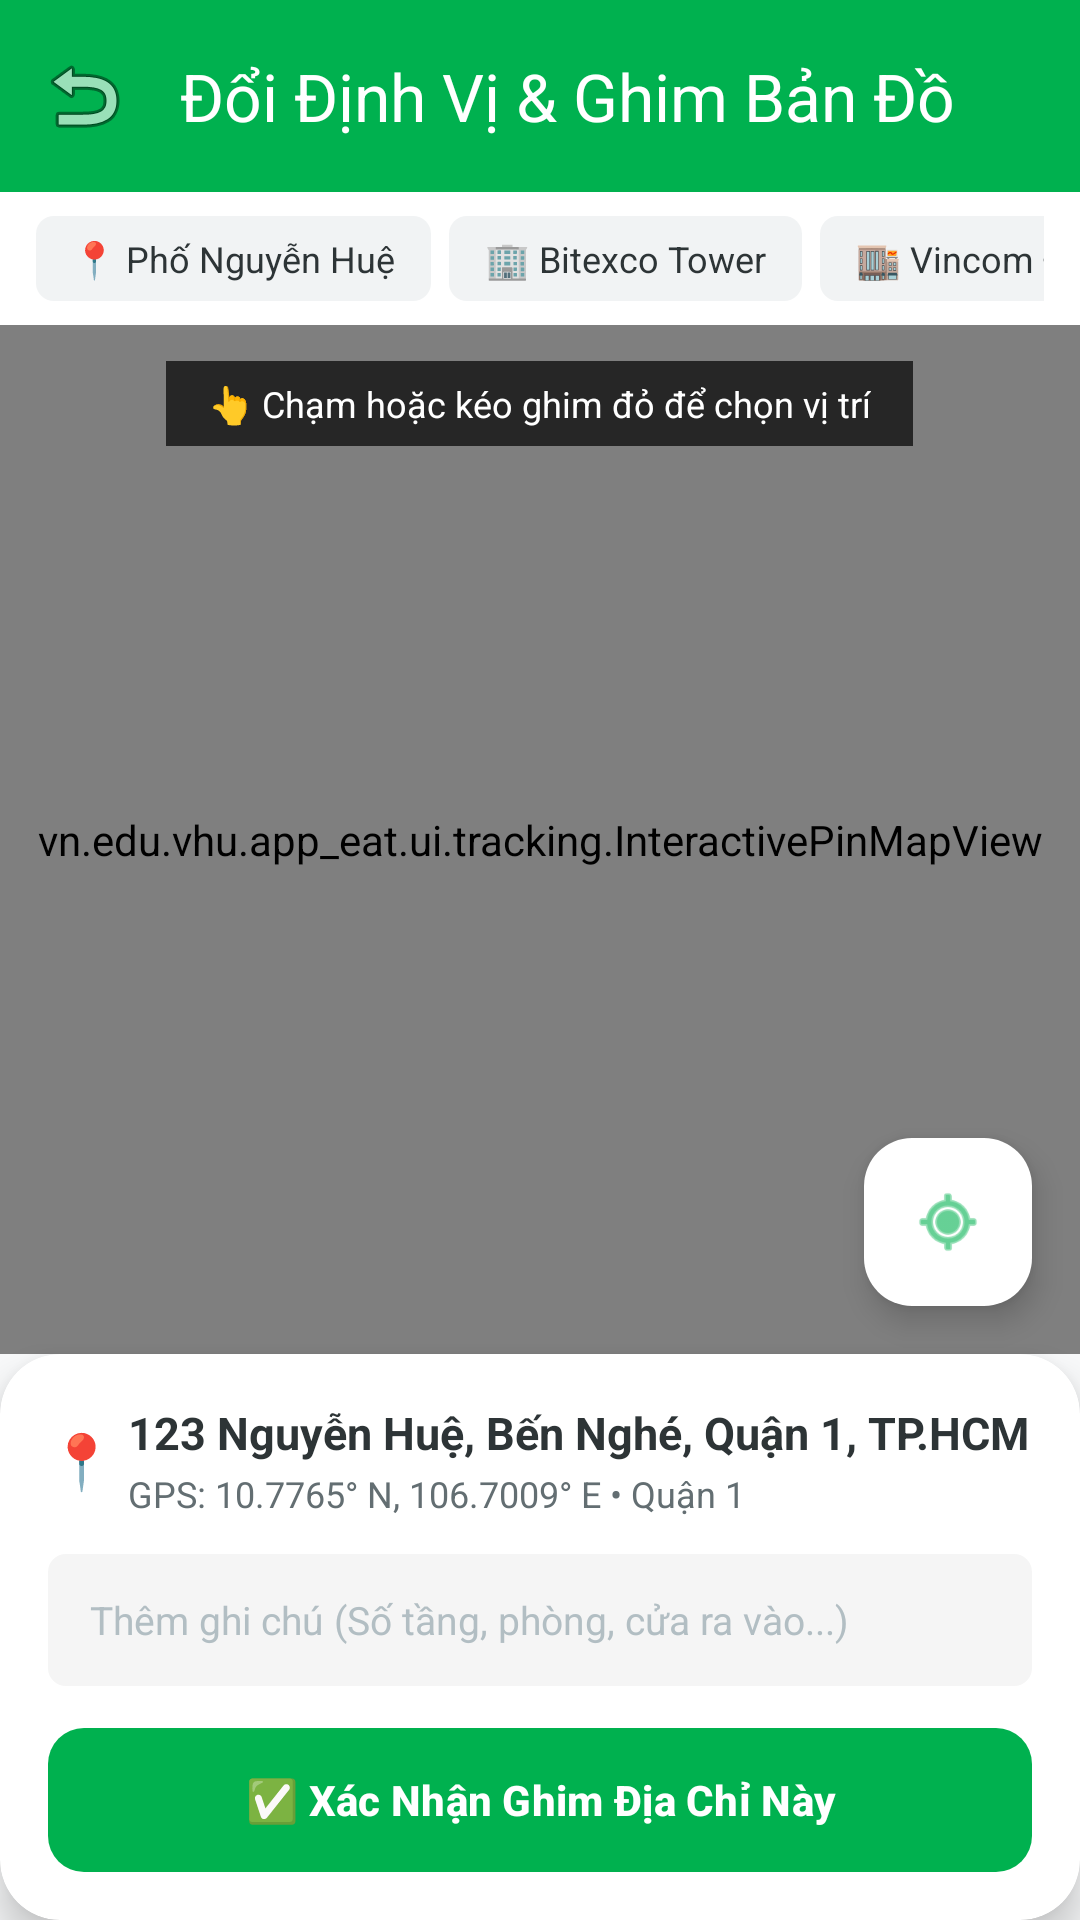

Icons on this 1080×1920 Android screen, each with the point to tap as (x,y):
My Location: (948,1222)
